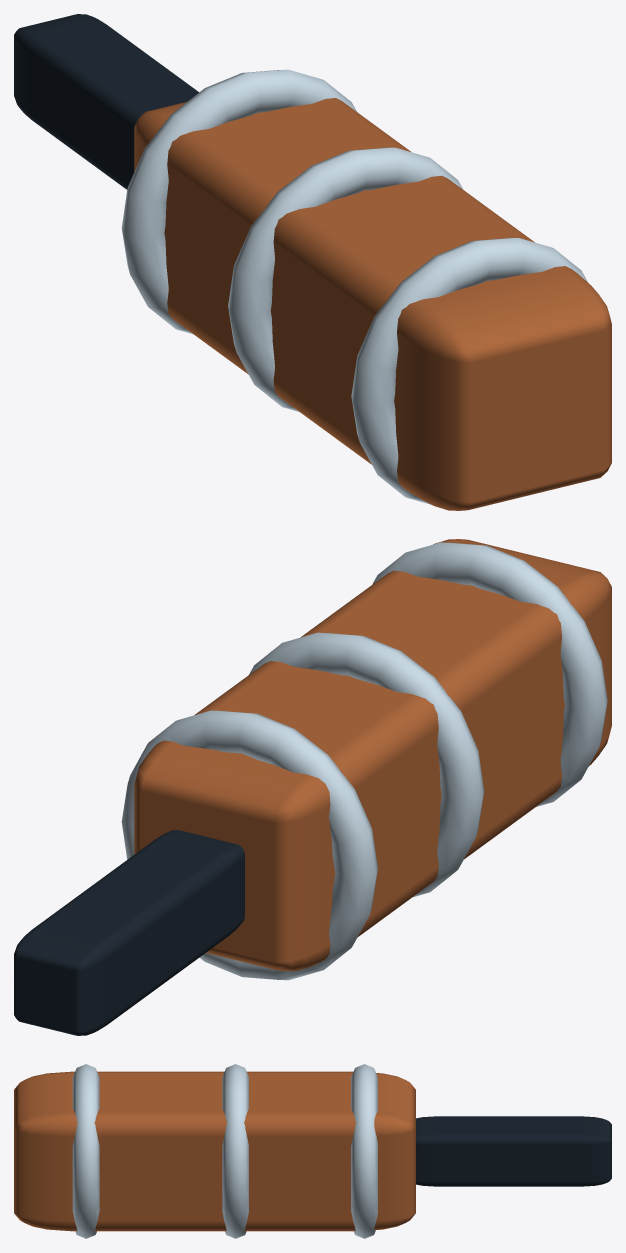
Rendered from bat-0.glb.
The picture shows the model from 3 angles, top to bottom: view 1: azimuth 30°, elevation 25°; view 2: azimuth 150°, elevation 25°; view 3: azimuth 270°, elevation 25°; orthographic projection. The views are drawn at different scales.
Bounding box in the file's own units: 0.342 × 0.342 × 1.16.
